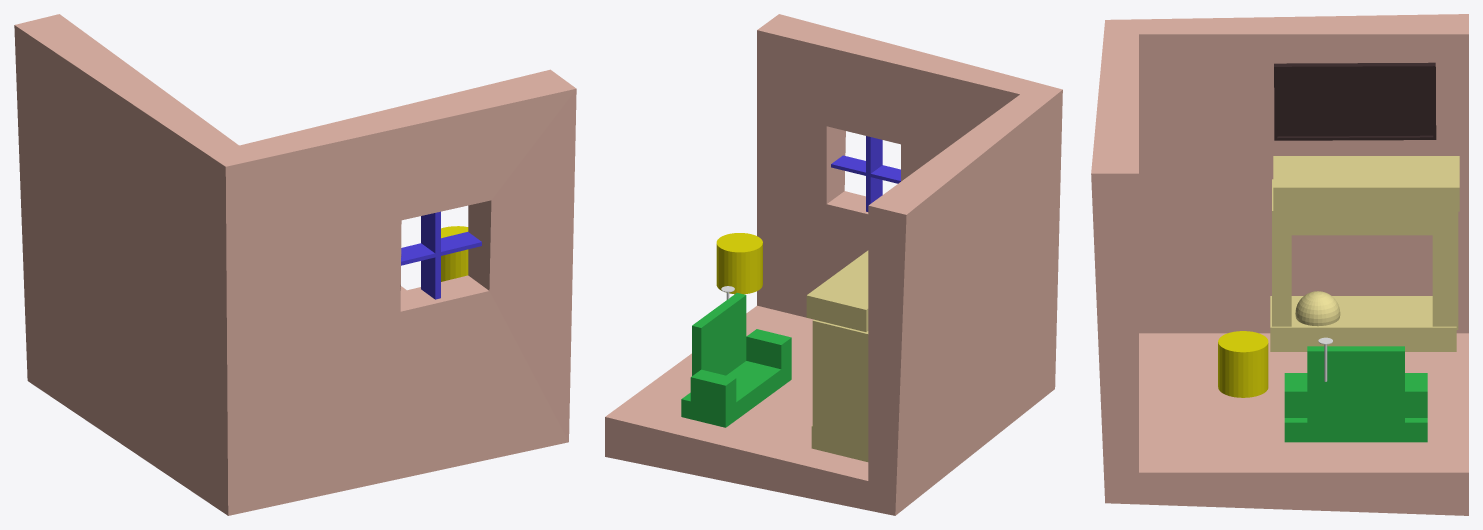
The picture shows the model from 3 angles, left to right: view 1: azimuth 30°, elevation 25°; view 2: azimuth 150°, elevation 25°; view 3: azimuth 270°, elevation 25°; orthographic projection. The views are drawn at different scales.
Parts seen in each view (by area): view 1: Cube, Куб.002, Цилиндр.002; view 2: Cube, Куб, Куб.005, Куб.004, Цилиндр.002, Куб.002, Куб.003; view 3: Cube, Куб, Куб.001, Куб.004, Куб.005, Куб.003, Цилиндр.002.
Part boxes in pixels (x1=…): Cube: x1=14, y1=14, x2=576, y2=515; Куб.002: x1=401, y1=211, x2=481, y2=299; Цилиндр.002: x1=441, y1=226, x2=468, y2=281; Cube: x1=605, y1=14, x2=1062, y2=515; Куб: x1=681, y1=293, x2=791, y2=427; Куб.005: x1=812, y1=319, x2=868, y2=443; Куб.004: x1=806, y1=250, x2=868, y2=331; Цилиндр.002: x1=716, y1=233, x2=762, y2=294; Куб.002: x1=831, y1=136, x2=900, y2=211; Куб.003: x1=811, y1=425, x2=868, y2=461; Cube: x1=1091, y1=14, x2=1468, y2=515; Куб: x1=1284, y1=346, x2=1427, y2=442; Куб.001: x1=1274, y1=62, x2=1436, y2=140; Куб.004: x1=1273, y1=156, x2=1459, y2=211; Куб.005: x1=1272, y1=179, x2=1458, y2=329; Куб.003: x1=1270, y1=296, x2=1456, y2=351; Цилиндр.002: x1=1218, y1=331, x2=1268, y2=397.
Bounding box in the file's own units: 3.29 × 3.29 × 3.29.
